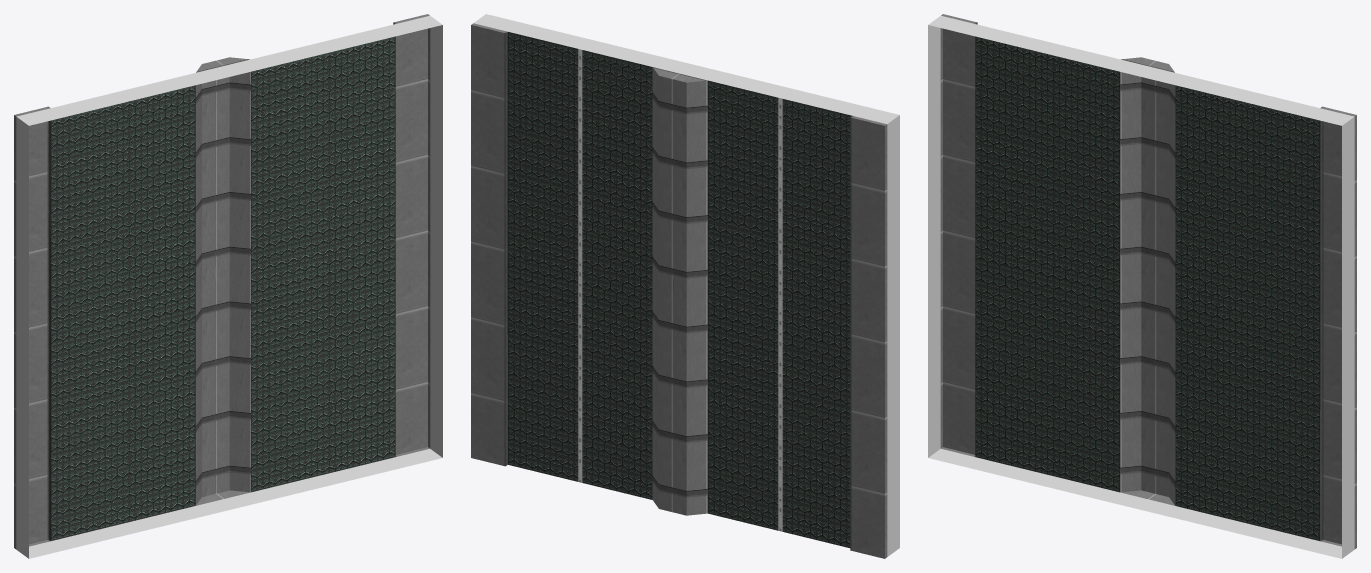
Rendered from FC_road_straight.fbx.
3 views of the same model, side by side, from view 1: azimuth 30°, elevation 25°; view 2: azimuth 150°, elevation 25°; view 3: azimuth 330°, elevation 25° (orthographic).
Parts seen in each view (by area): view 1: FC_road_straight; view 2: FC_road_straight, light_007; view 3: FC_road_straight.
Boxes of the visible parts, x1,y1,x2,y2 form: FC_road_straight: [14, 14, 442, 558]; FC_road_straight: [471, 14, 899, 558]; light_007: [578, 49, 782, 531]; FC_road_straight: [928, 14, 1356, 558].
Size of the model in its own units: 16 by 16 by 1.35.
